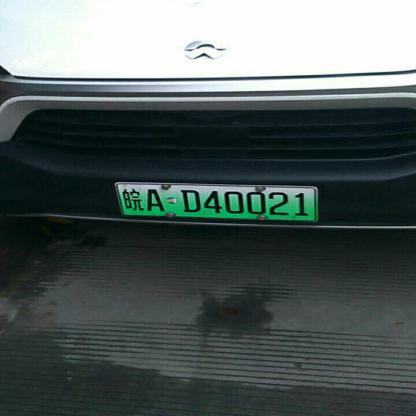lp: (116, 182, 316, 219)
